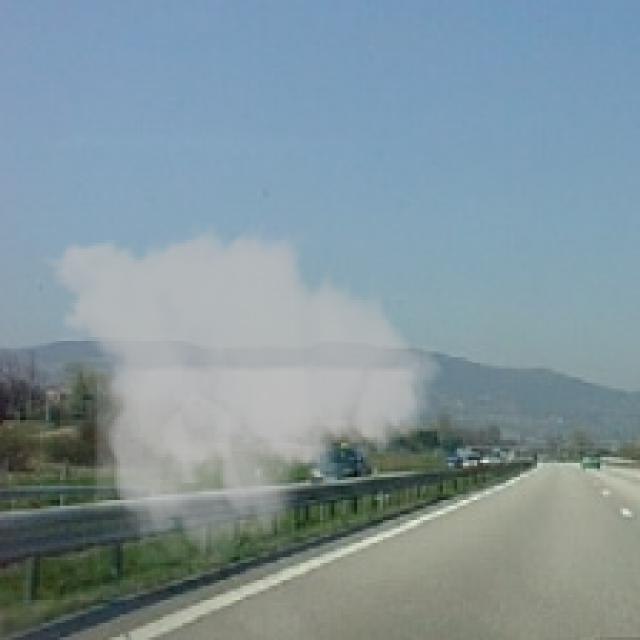smoke: (32, 217, 454, 563)
